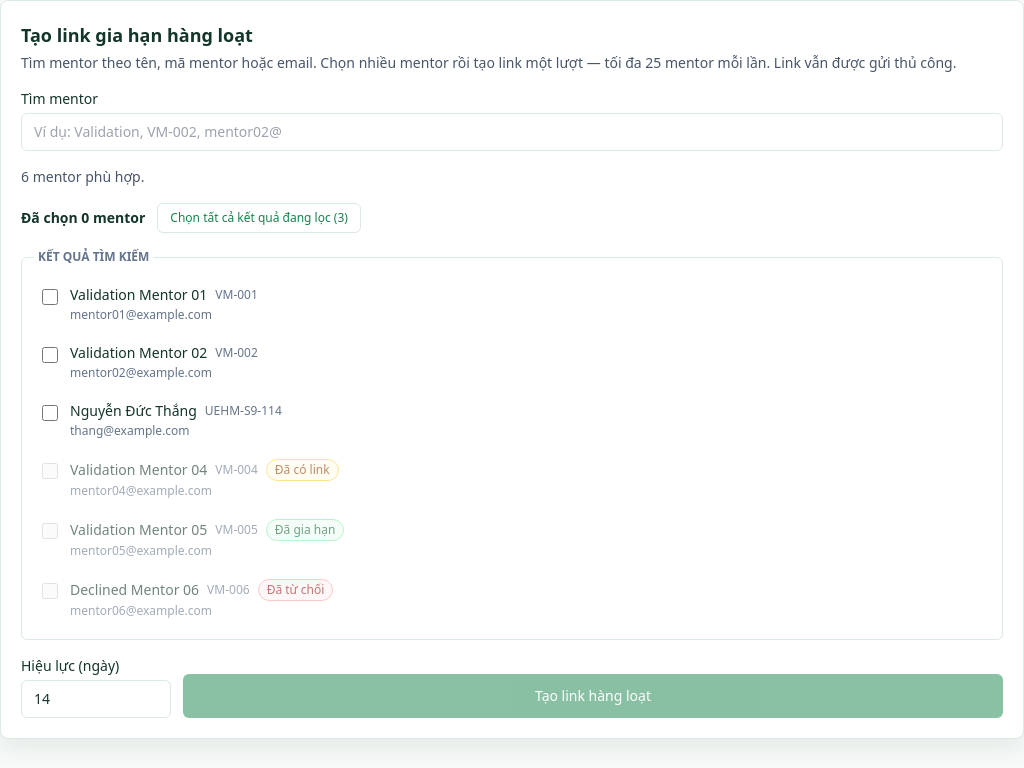
Test: M075 picker — search › filters by email
The image size is (1024, 768).
In the search field labelled "Tìm mentor": coordinates (512, 132) [21,113,1003,151], type "mentor01@"
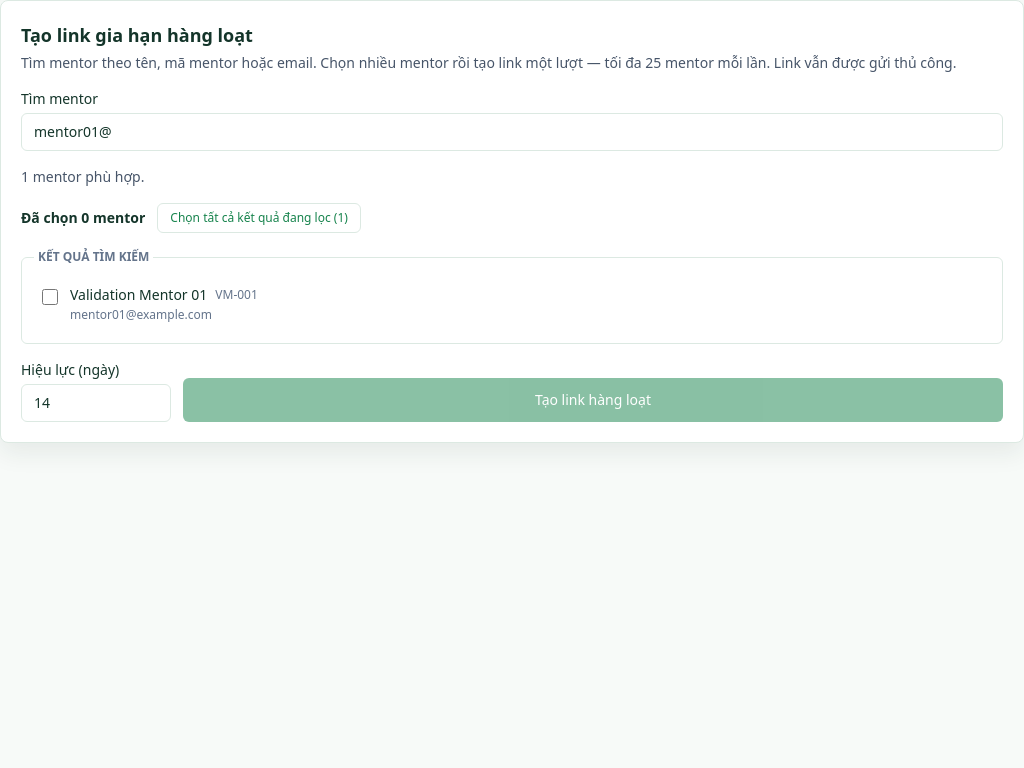
Expected: the text "Validation Mentor 01" is shown, [70,285,207,305]
Result: the text "Validation Mentor 02" is gone
